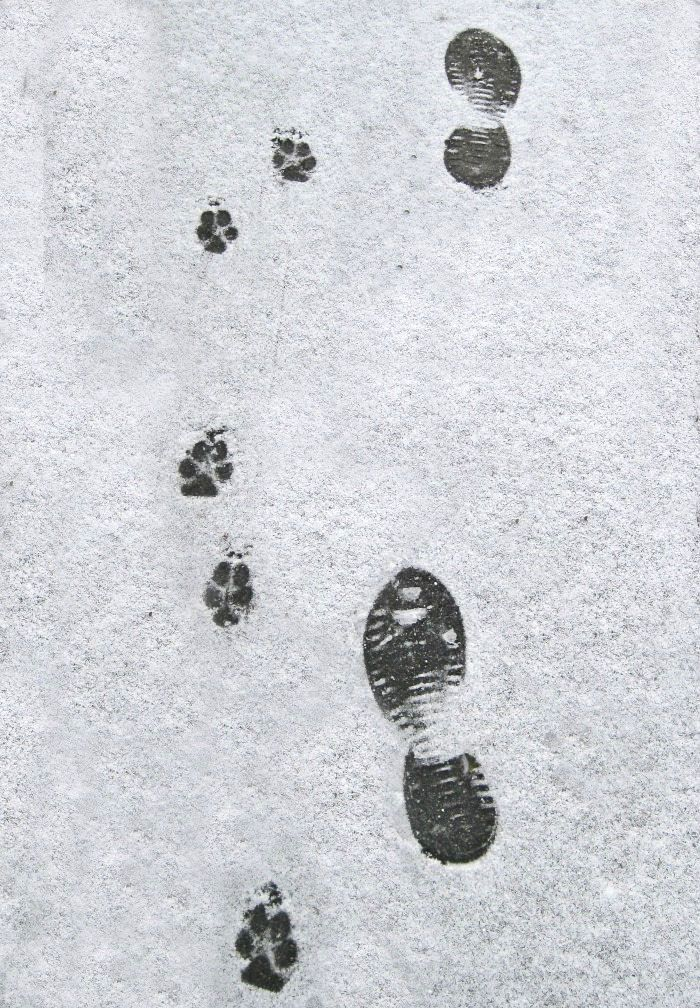cat: (222, 895, 306, 1000), (199, 551, 257, 640), (173, 435, 238, 510), (195, 195, 241, 264), (268, 130, 321, 186)
